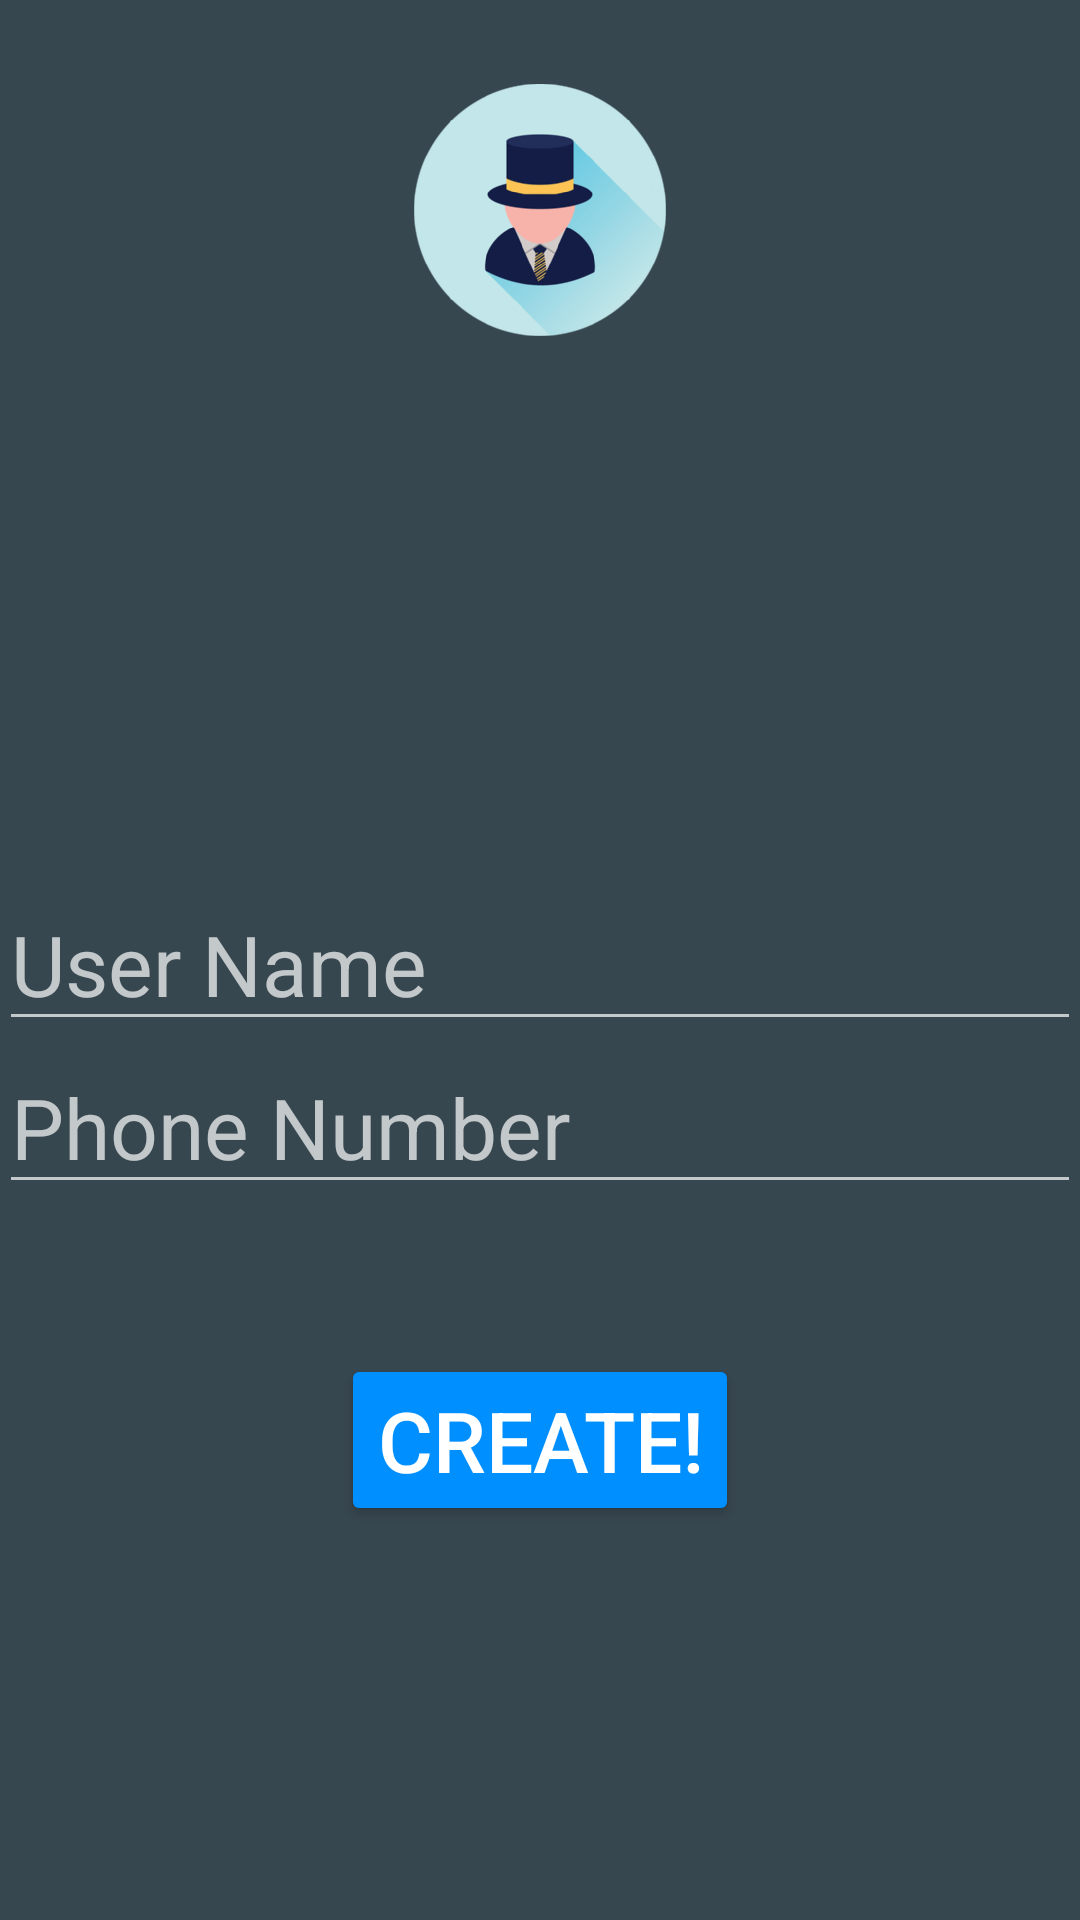

Where icons sit on this 1080 × 1920 app screen, as (x1,y1,x2,y2):
user: (414,84,666,336)
